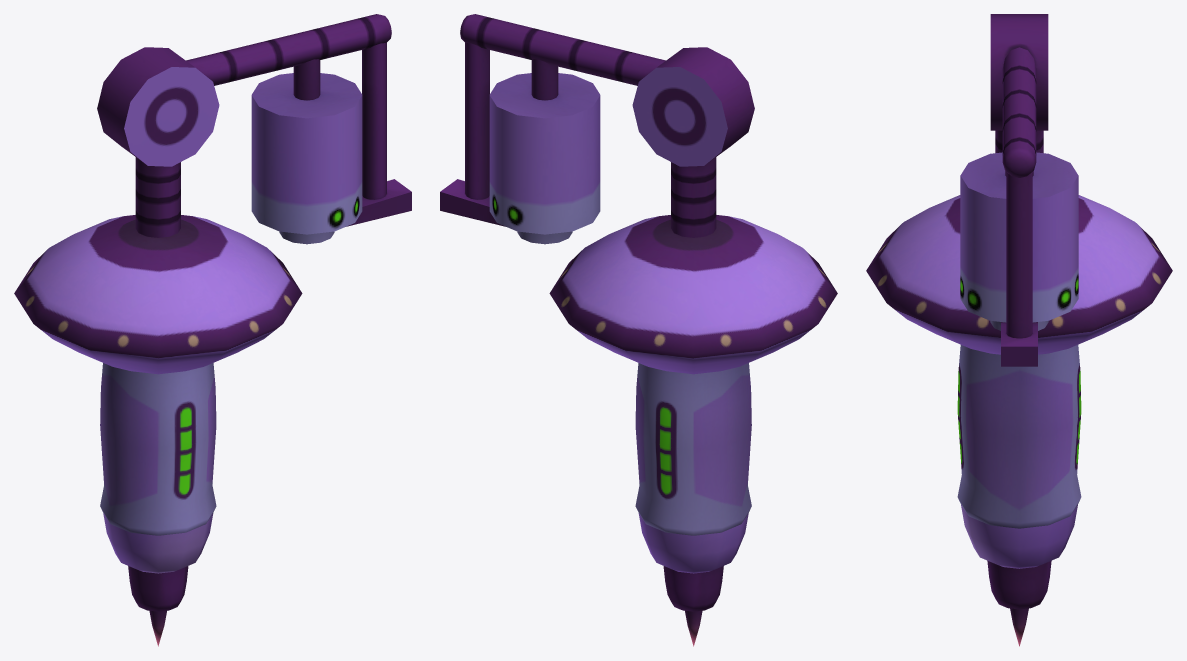
Rendered from SungXam_03_1.fbx.
3 renders of one model, left to right at view 1: azimuth 30°, elevation 25°; view 2: azimuth 150°, elevation 25°; view 3: azimuth 270°, elevation 25°, orthographic. The views are drawn at different scales.
Parts seen in each view (by area): view 1: polySurface2, polySurface1; view 2: polySurface2, polySurface1; view 3: polySurface2, polySurface1.
Part boxes in pixels (x1,y1,x2,y2): polySurface2: (14,14,411,646); polySurface1: (251,73,362,205); polySurface2: (440,14,837,646); polySurface1: (489,73,600,205); polySurface2: (866,14,1172,646); polySurface1: (960,152,1078,291).
Size of the model in its own units: 17.97 by 27.4 by 12.14.
